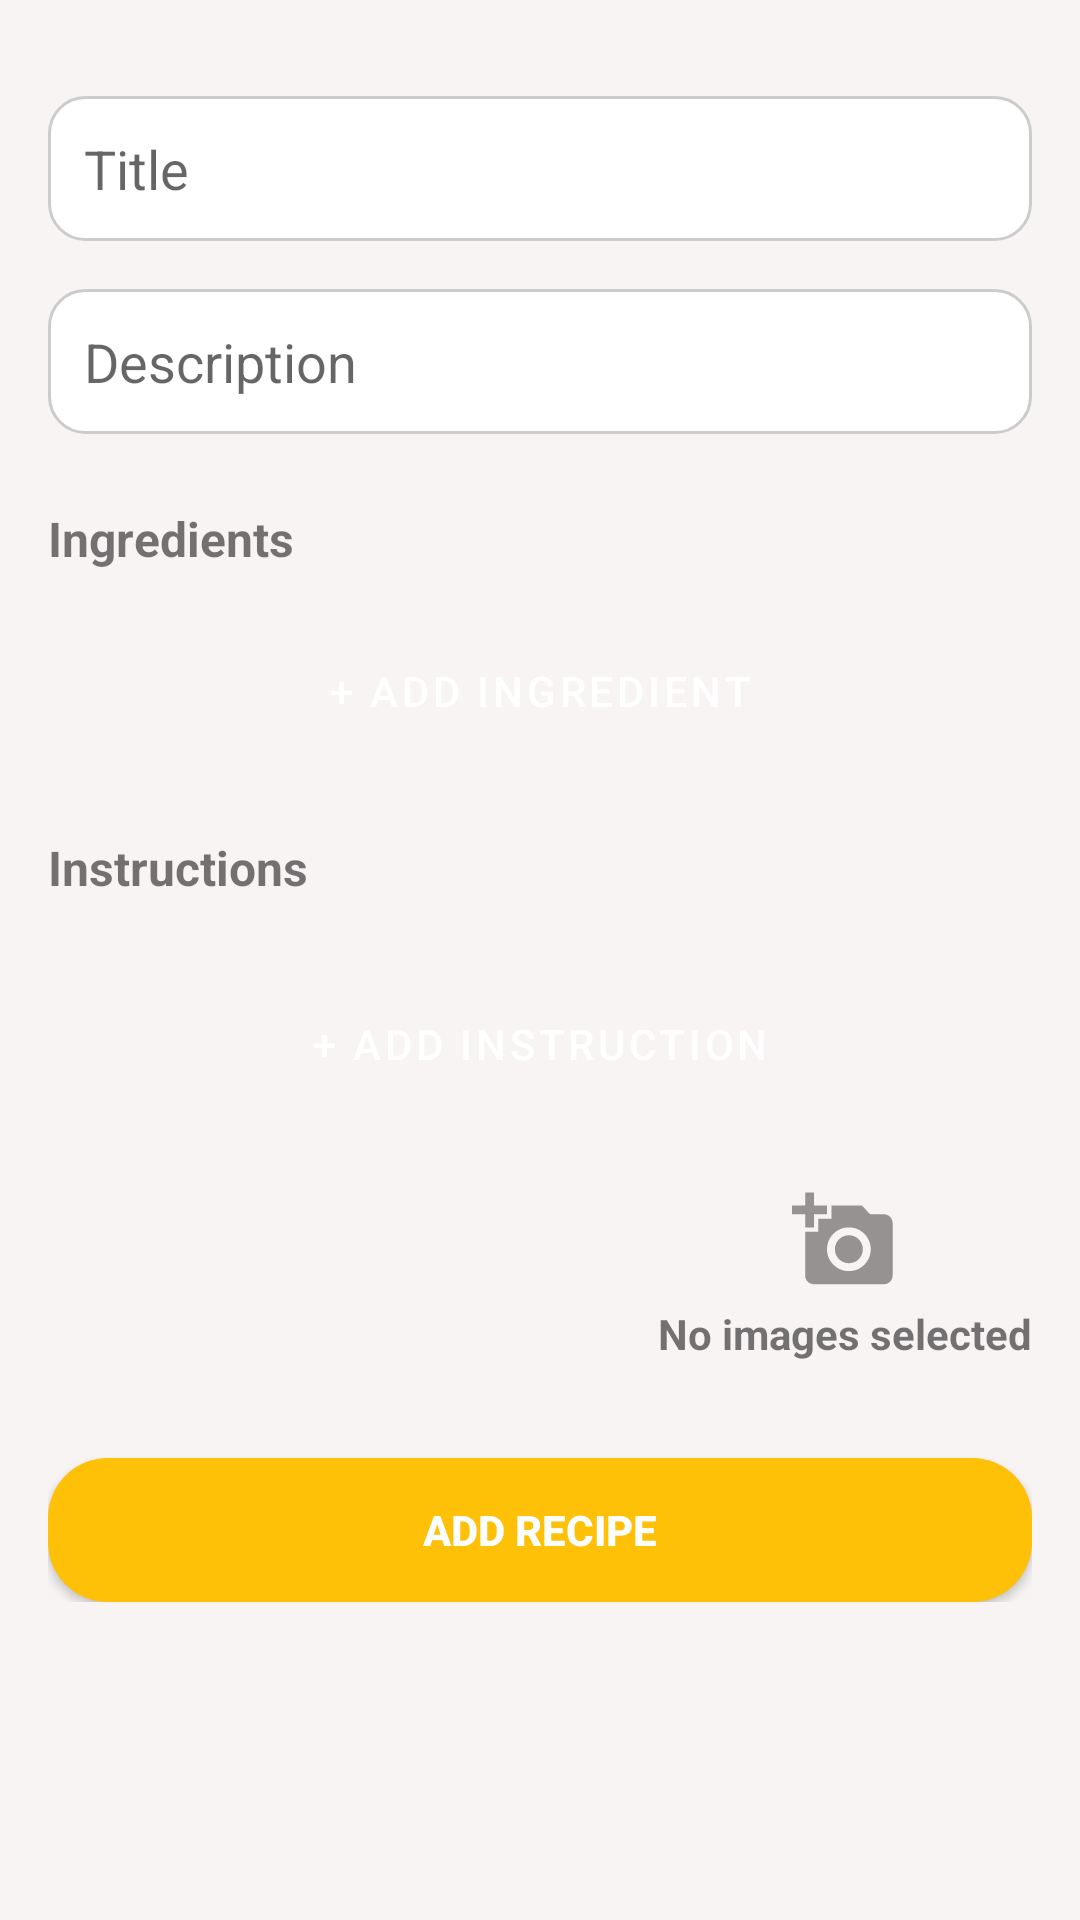

Screen size 1080x1920. Icon name, then its box in pixels as (x1, y1, x2, y2):
Upload Photo: (792, 1192, 893, 1284)
